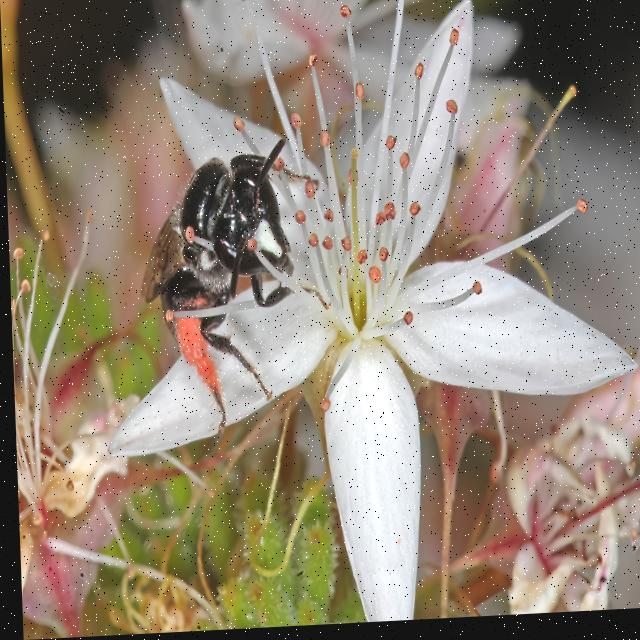Braunsapis: (123, 142, 314, 456)
